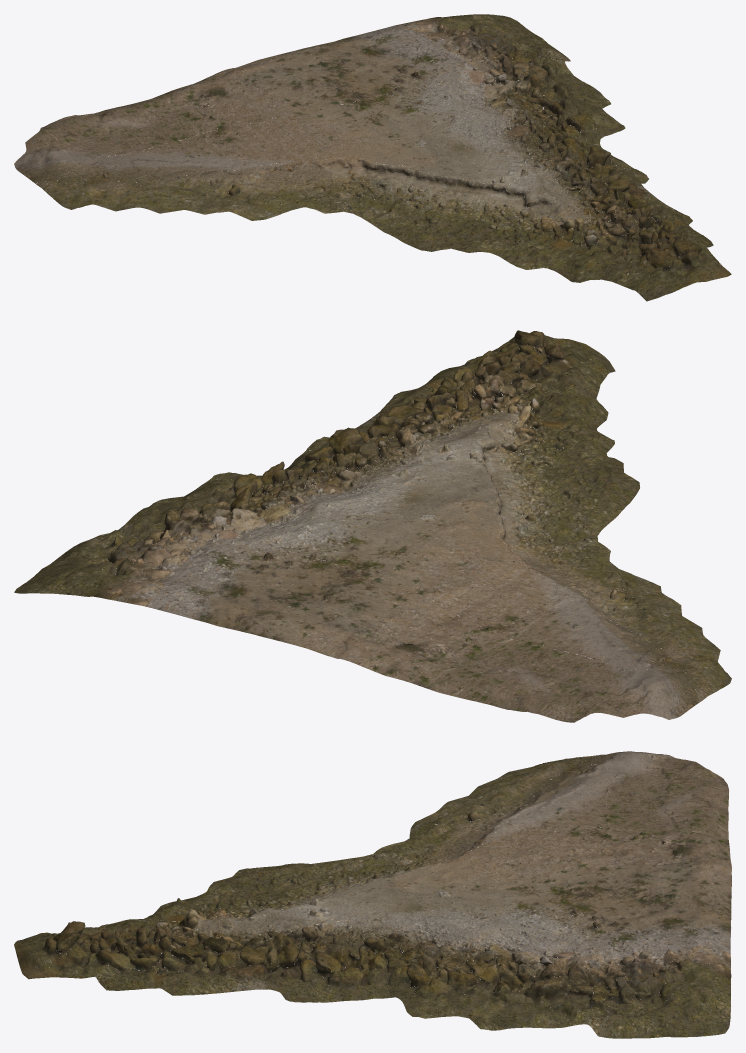
3 renders of one model, top to bottom at view 1: azimuth 30°, elevation 25°; view 2: azimuth 150°, elevation 25°; view 3: azimuth 270°, elevation 25°, orthographic. The views are drawn at different scales.
Visible parts, largest first — view 1: ScanTerrain; view 2: ScanTerrain; view 3: ScanTerrain.
Boxes of the visible parts, x1,y1,x2,y2 form: ScanTerrain: (14, 14, 731, 301); ScanTerrain: (14, 330, 731, 722); ScanTerrain: (14, 751, 731, 1038).
Size of what is drawn, in the model's own units: 45.96 by 3.17 by 49.47.
Materials: 1 (1 with a texture image).
